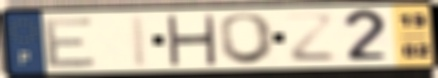2: (337, 7, 396, 66)
E: (42, 15, 100, 70)
H: (163, 14, 219, 67)
I: (128, 13, 151, 69)
O: (217, 12, 279, 66)
Z: (283, 12, 339, 64)
